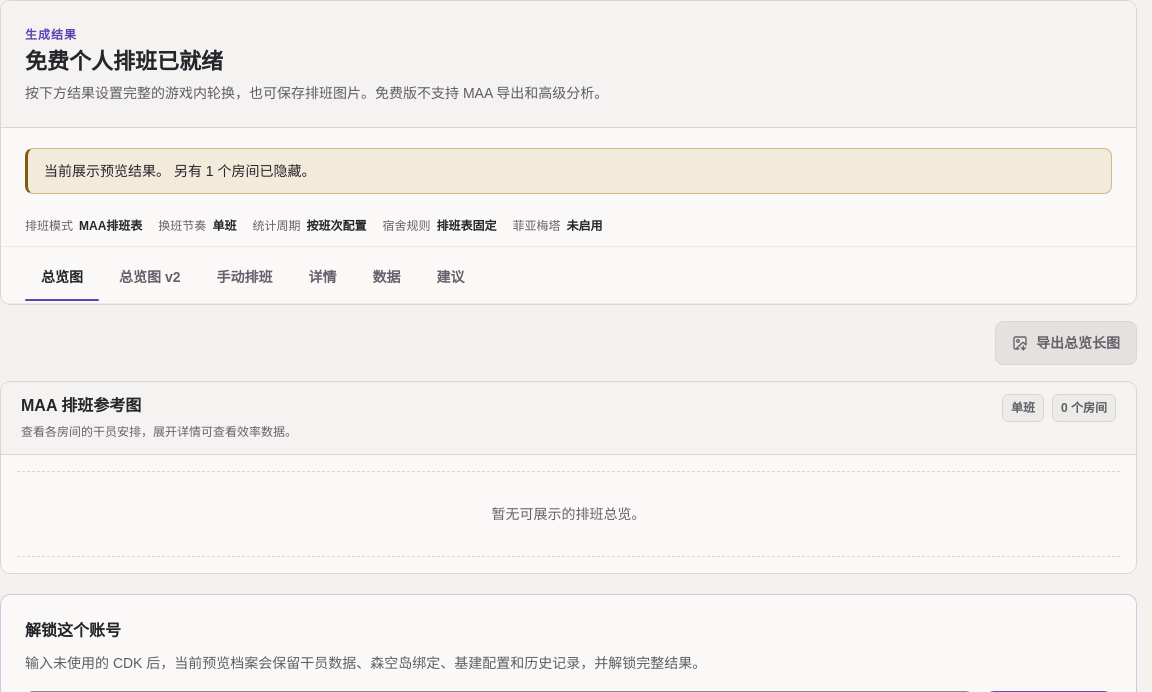
it: ResultSection locked capabilities › gates manual editing and suggestions in final results
This screenshot has width=1152, height=692.
Click the tab "建议". click: (450, 281)
box: [420,259,480,303]
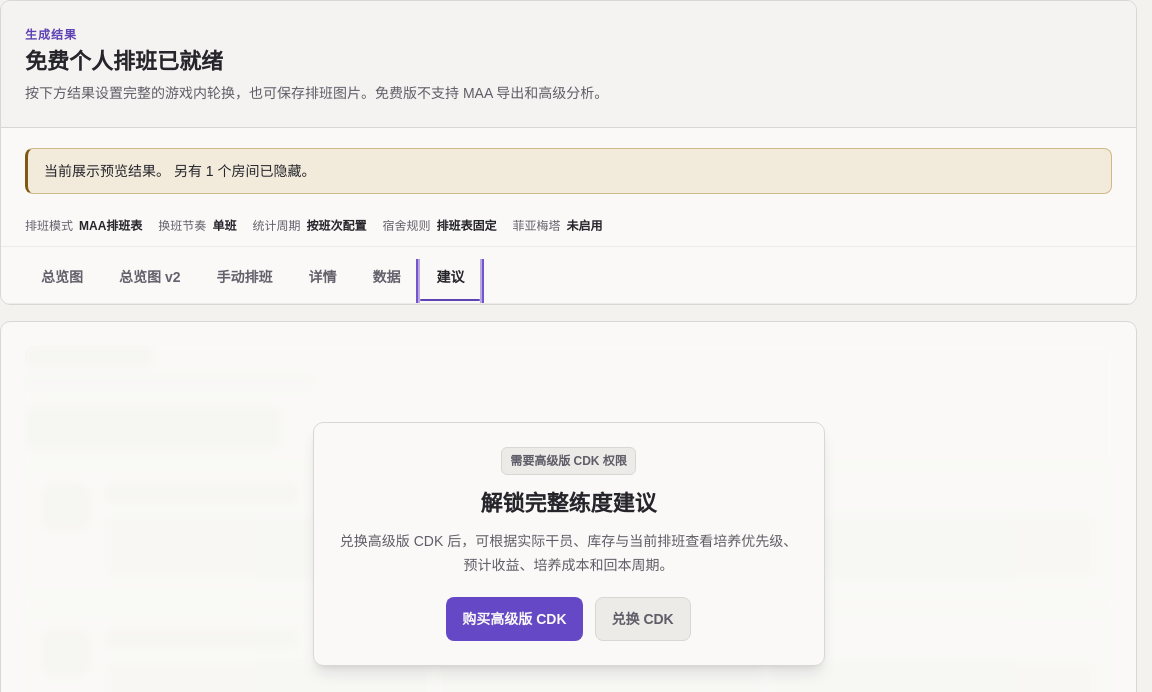
Result: the heading "解锁完整练度建议" is shown at [480,491,656,516]
Result: the text "需要高级版 CDK 权限" is shown at [501,447,636,475]
Click the tab "手动排班". click: (244, 281)
box: [200,259,288,303]
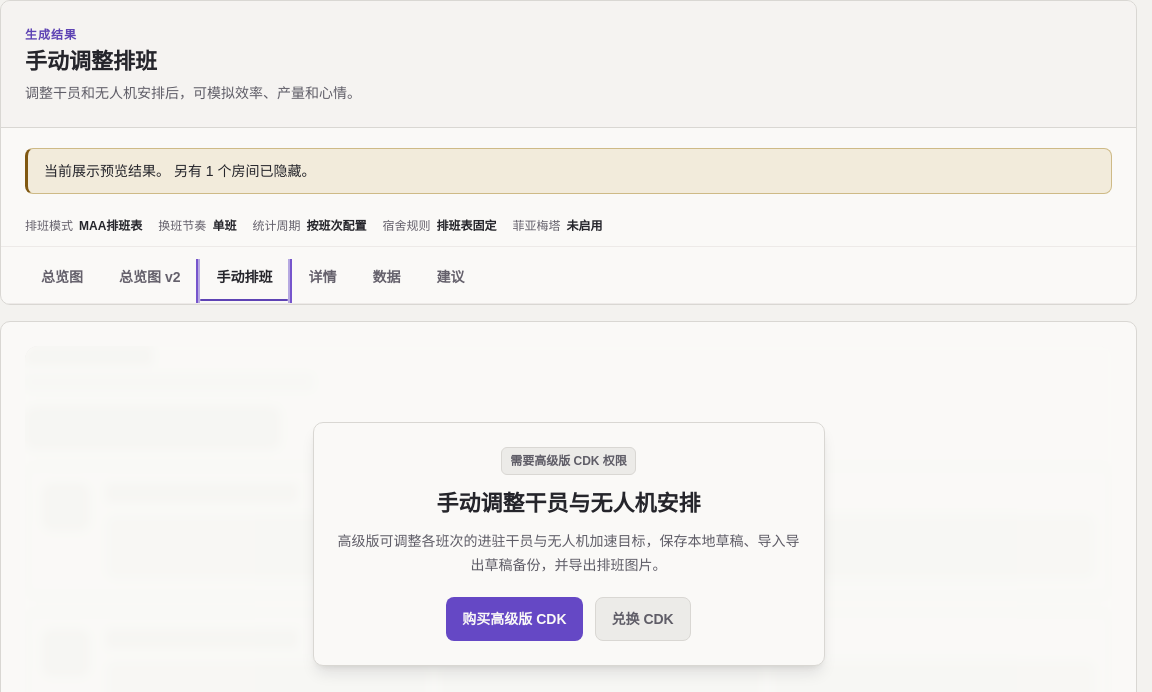
Result: the text "需要高级版 CDK 权限" is shown at [501,447,636,475]
Result: the heading "手动调整干员与无人机安排" is shown at [436,491,700,516]
